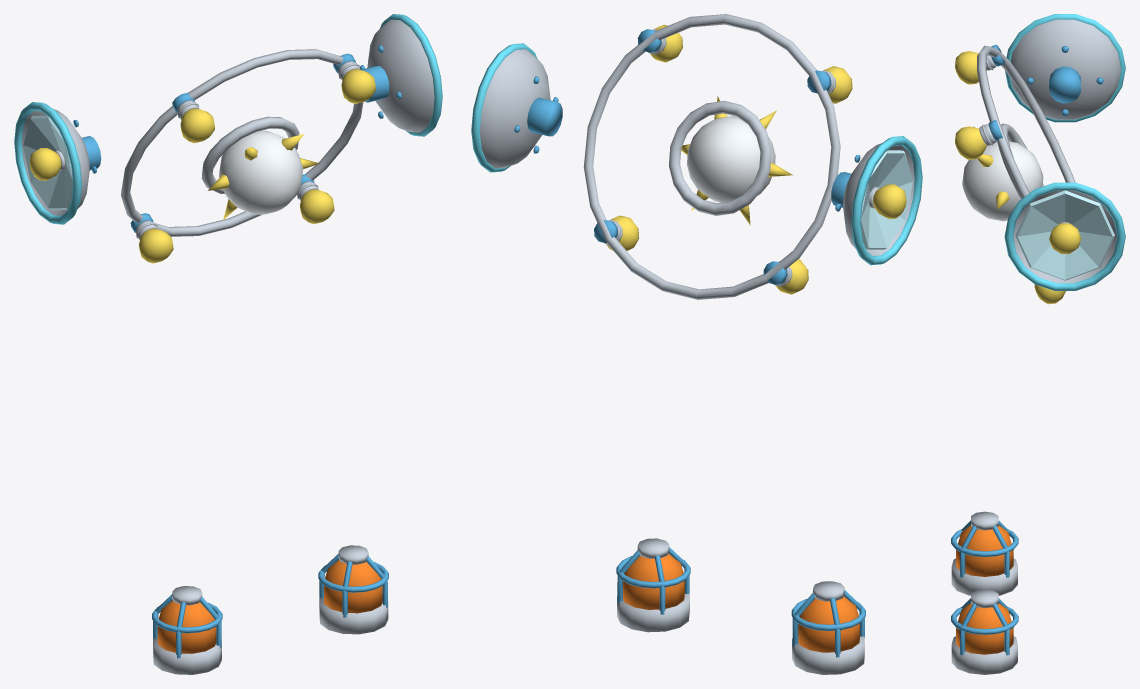
File: HeatLamp_T3_Upgrades.fbx
3 views of the same model, side by side, from view 1: azimuth 30°, elevation 25°; view 2: azimuth 150°, elevation 25°; view 3: azimuth 270°, elevation 25° (orthographic). The views are drawn at different scales.
Parts seen in each view (by area): view 1: HeatLampT3U1Bulbs, HeatLampT3U5SunBulbGlow, HeatLampT3U3Reflector1, HeatLampT3U3Reflector2, HeatLampT3U1BulbsGlow, HeatLampT3U2Beacon1, HeatLampT3U2Beacon2, HeatLampT3U3Reflector2Glow, HeatLampT3U2Beacon2Glow, HeatLampT3U2Beacon1Glow, HeatLampT3U5SunBulb, HeatLampT3U3Reflector1Glow; view 2: HeatLampT3U1Bulbs, HeatLampT3U3Reflector1, HeatLampT3U5SunBulbGlow, HeatLampT3U3Reflector2, HeatLampT3U5SunBulb, HeatLampT3U2Beacon1, HeatLampT3U2Beacon2, HeatLampT3U3Reflector2Glow, HeatLampT3U1BulbsGlow, HeatLampT3U2Beacon2Glow, HeatLampT3U2Beacon1Glow, HeatLampT3U3Reflector1Glow; view 3: HeatLampT3U3Reflector2, HeatLampT3U3Reflector1, HeatLampT3U5SunBulbGlow, HeatLampT3U3Reflector1Glow, HeatLampT3U1Bulbs, HeatLampT3U2Beacon1, HeatLampT3U2Beacon2, HeatLampT3U1BulbsGlow, HeatLampT3U2Beacon2Glow, HeatLampT3U2Beacon1Glow, HeatLampT3U3Reflector2Glow, HeatLampT3U5SunBulb.
Boxes of the visible parts, box(x1,y1,x2,y2) form: HeatLampT3U1Bulbs: box(121, 49, 363, 239); HeatLampT3U5SunBulbGlow: box(208, 130, 319, 219); HeatLampT3U3Reflector1: box(360, 19, 434, 132); HeatLampT3U3Reflector2: box(21, 109, 101, 215); HeatLampT3U1BulbsGlow: box(139, 69, 375, 263); HeatLampT3U2Beacon1: box(318, 545, 388, 634); HeatLampT3U2Beacon2: box(152, 586, 222, 674); HeatLampT3U3Reflector2Glow: box(14, 102, 81, 224); HeatLampT3U2Beacon2Glow: box(157, 600, 216, 653); HeatLampT3U2Beacon1Glow: box(324, 559, 382, 613); HeatLampT3U5SunBulb: box(201, 116, 299, 193); HeatLampT3U3Reflector1Glow: box(380, 14, 442, 136); HeatLampT3U1Bulbs: box(583, 14, 840, 299); HeatLampT3U3Reflector1: box(479, 49, 562, 168); HeatLampT3U5SunBulbGlow: box(681, 96, 792, 225); HeatLampT3U3Reflector2: box(831, 143, 914, 255); HeatLampT3U5SunBulb: box(669, 100, 771, 215); HeatLampT3U2Beacon1: box(616, 538, 690, 632); HeatLampT3U2Beacon2: box(791, 581, 865, 674); HeatLampT3U3Reflector2Glow: box(851, 136, 922, 265); HeatLampT3U1BulbsGlow: box(606, 24, 852, 294); HeatLampT3U2Beacon2Glow: box(798, 596, 859, 652); HeatLampT3U2Beacon1Glow: box(623, 553, 684, 609); HeatLampT3U3Reflector1Glow: box(471, 43, 537, 172); HeatLampT3U3Reflector2: box(1010, 19, 1121, 119); HeatLampT3U3Reflector1: box(1013, 190, 1116, 283); HeatLampT3U5SunBulbGlow: box(962, 127, 1043, 221); HeatLampT3U3Reflector1Glow: box(1004, 182, 1125, 290); HeatLampT3U1Bulbs: box(977, 44, 1075, 198); HeatLampT3U2Beacon1: box(951, 589, 1018, 674); HeatLampT3U2Beacon2: box(951, 511, 1018, 595); HeatLampT3U1BulbsGlow: box(955, 51, 1065, 304); HeatLampT3U2Beacon2Glow: box(956, 525, 1013, 576); HeatLampT3U2Beacon1Glow: box(956, 603, 1013, 654); HeatLampT3U3Reflector2Glow: box(1005, 14, 1125, 122); HeatLampT3U5SunBulb: box(998, 123, 1043, 199).
Bounding box in the file's own units: 135 × 194 × 54.58.
